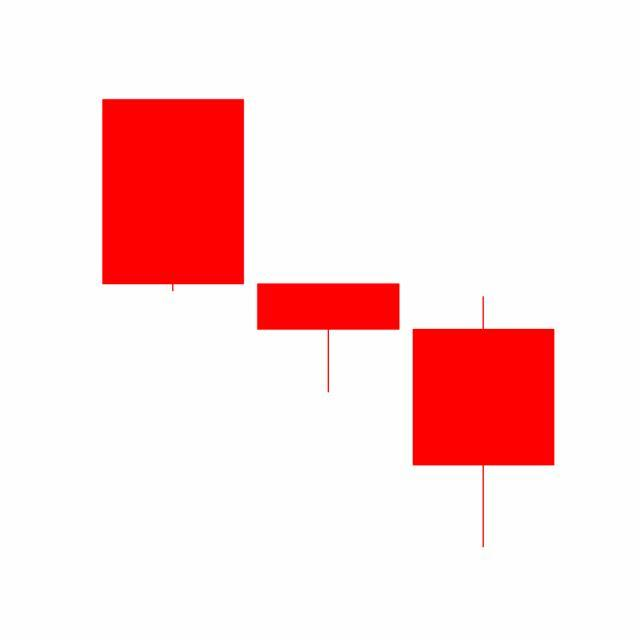Hammer: (250, 283, 407, 395)
